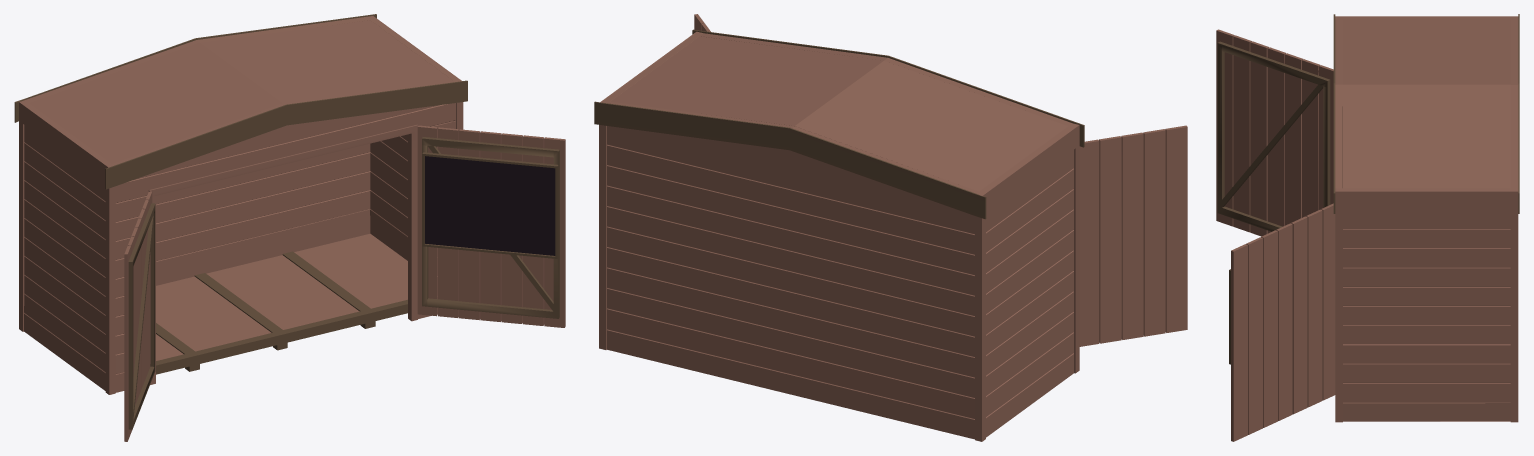
The model's file is Menu_Shed.fbx.
3 renders of one model, left to right at view 1: azimuth 30°, elevation 25°; view 2: azimuth 150°, elevation 25°; view 3: azimuth 270°, elevation 25°, orthographic. The views are drawn at different scales.
Parts seen in each view (by area): view 1: Shed, Shed_door_R, highscore, Shed_door_L; view 2: Shed, Shed_door_L; view 3: Shed, Shed_door_L, Shed_door_R.
Part boxes in pixels (x1,y1,x2,y2): Shed: [14, 14, 467, 394]; Shed_door_R: [417, 125, 565, 327]; highscore: [422, 152, 558, 258]; Shed_door_L: [124, 191, 155, 441]; Shed: [594, 29, 1084, 441]; Shed_door_L: [1079, 125, 1187, 346]; Shed: [1333, 14, 1519, 422]; Shed_door_L: [1216, 29, 1333, 236]; Shed_door_R: [1231, 203, 1335, 441].
Size of the model in its own units: 398 by 210 by 230.
